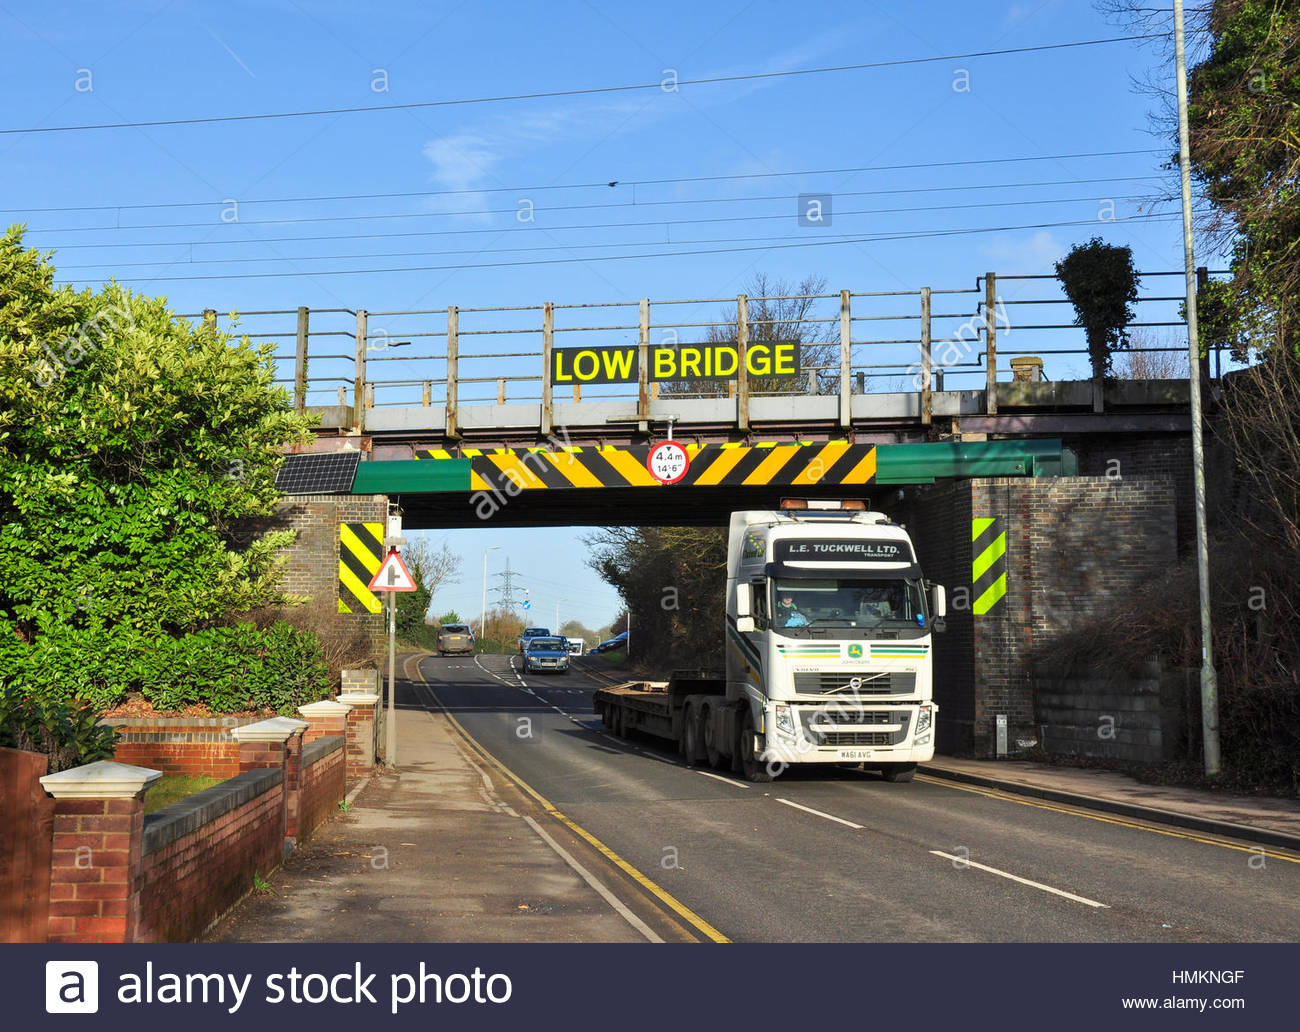bridge: (270, 303, 984, 517)
